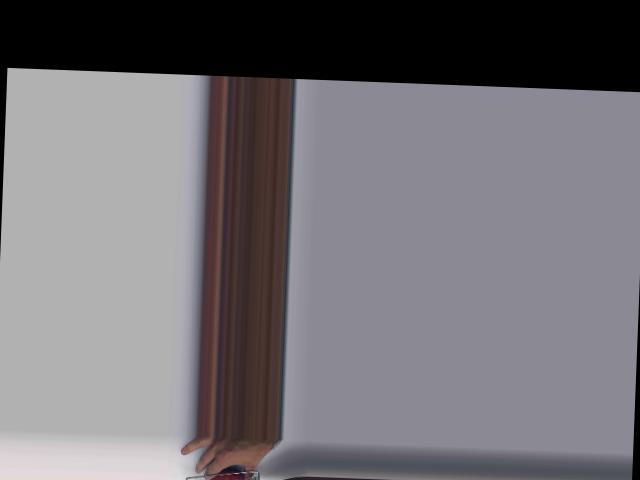tomato: (211, 467, 246, 480)
